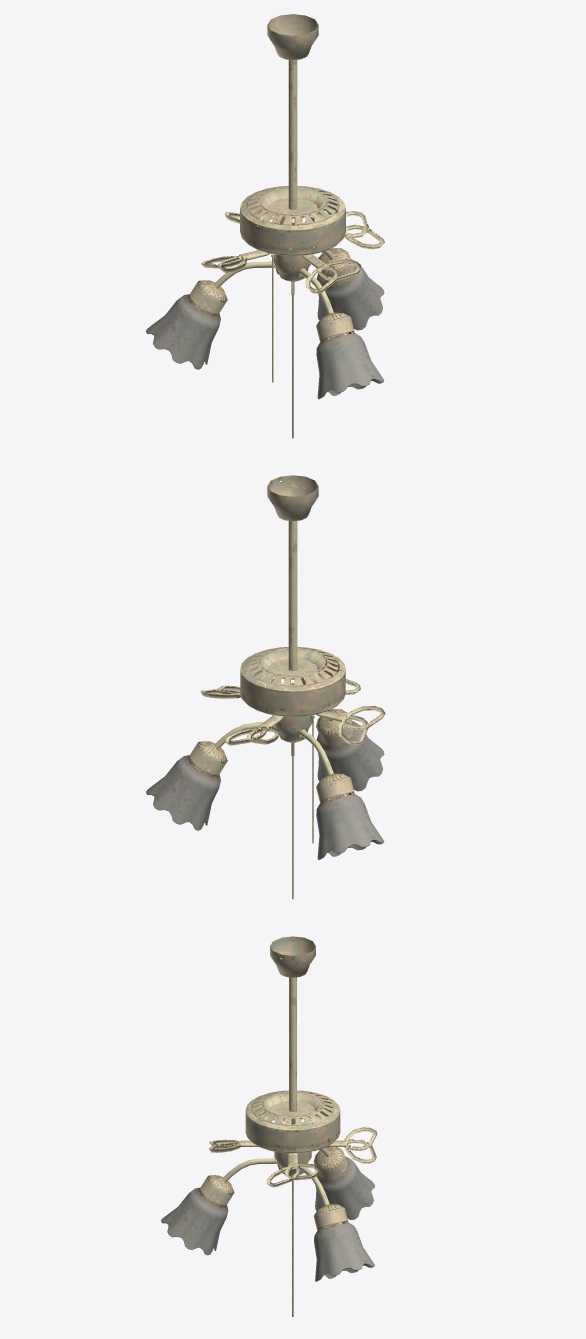
The model's file is sm35_048_ceilingfans01a.fbx.
3 views of the same model, one above another, from view 1: azimuth 30°, elevation 25°; view 2: azimuth 150°, elevation 25°; view 3: azimuth 270°, elevation 25° (orthographic). The views are drawn at different scales.
Parts seen in each view (by area): view 1: LOD_1_Group_1_Sub_1__sm35_048_CeilingFans01A_A_Mat, LOD_1_Group_0_Sub_2__sm35_048_CeilingFans01A_B_Mat, LOD_1_Group_0_Sub_1__sm35_048_CeilingFans01A_A_Mat; view 2: LOD_1_Group_1_Sub_1__sm35_048_CeilingFans01A_A_Mat, LOD_1_Group_0_Sub_2__sm35_048_CeilingFans01A_B_Mat, LOD_1_Group_0_Sub_1__sm35_048_CeilingFans01A_A_Mat; view 3: LOD_1_Group_0_Sub_2__sm35_048_CeilingFans01A_B_Mat, LOD_1_Group_1_Sub_1__sm35_048_CeilingFans01A_A_Mat, LOD_1_Group_0_Sub_1__sm35_048_CeilingFans01A_A_Mat.
Part boxes in pixels (x1=…): LOD_1_Group_1_Sub_1__sm35_048_CeilingFans01A_A_Mat: x1=201, y1=186, x2=384, y2=293; LOD_1_Group_0_Sub_2__sm35_048_CeilingFans01A_B_Mat: x1=146, y1=259, x2=384, y2=399; LOD_1_Group_0_Sub_1__sm35_048_CeilingFans01A_A_Mat: x1=189, y1=14, x2=354, y2=438; LOD_1_Group_1_Sub_1__sm35_048_CeilingFans01A_A_Mat: x1=200, y1=647, x2=385, y2=745; LOD_1_Group_0_Sub_2__sm35_048_CeilingFans01A_B_Mat: x1=146, y1=720, x2=384, y2=860; LOD_1_Group_0_Sub_1__sm35_048_CeilingFans01A_A_Mat: x1=189, y1=475, x2=354, y2=899; LOD_1_Group_0_Sub_2__sm35_048_CeilingFans01A_B_Mat: x1=161, y1=1156, x2=374, y2=1281; LOD_1_Group_1_Sub_1__sm35_048_CeilingFans01A_A_Mat: x1=209, y1=1090, x2=377, y2=1187; LOD_1_Group_0_Sub_1__sm35_048_CeilingFans01A_A_Mat: x1=199, y1=936, x2=348, y2=1316.
Bounding box in the file's own units: 2.09 × 1.56 × 2.09.
